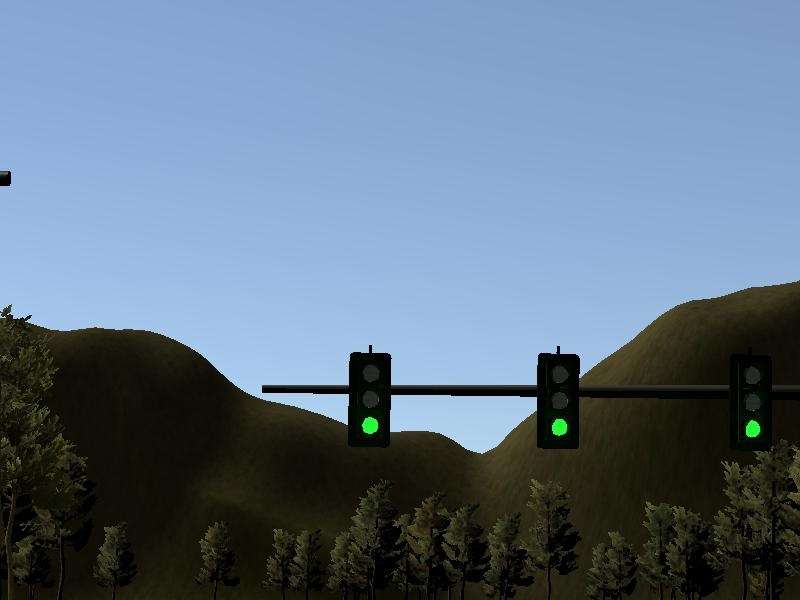green: (528, 343, 587, 451), (724, 342, 774, 457), (341, 344, 393, 445)
